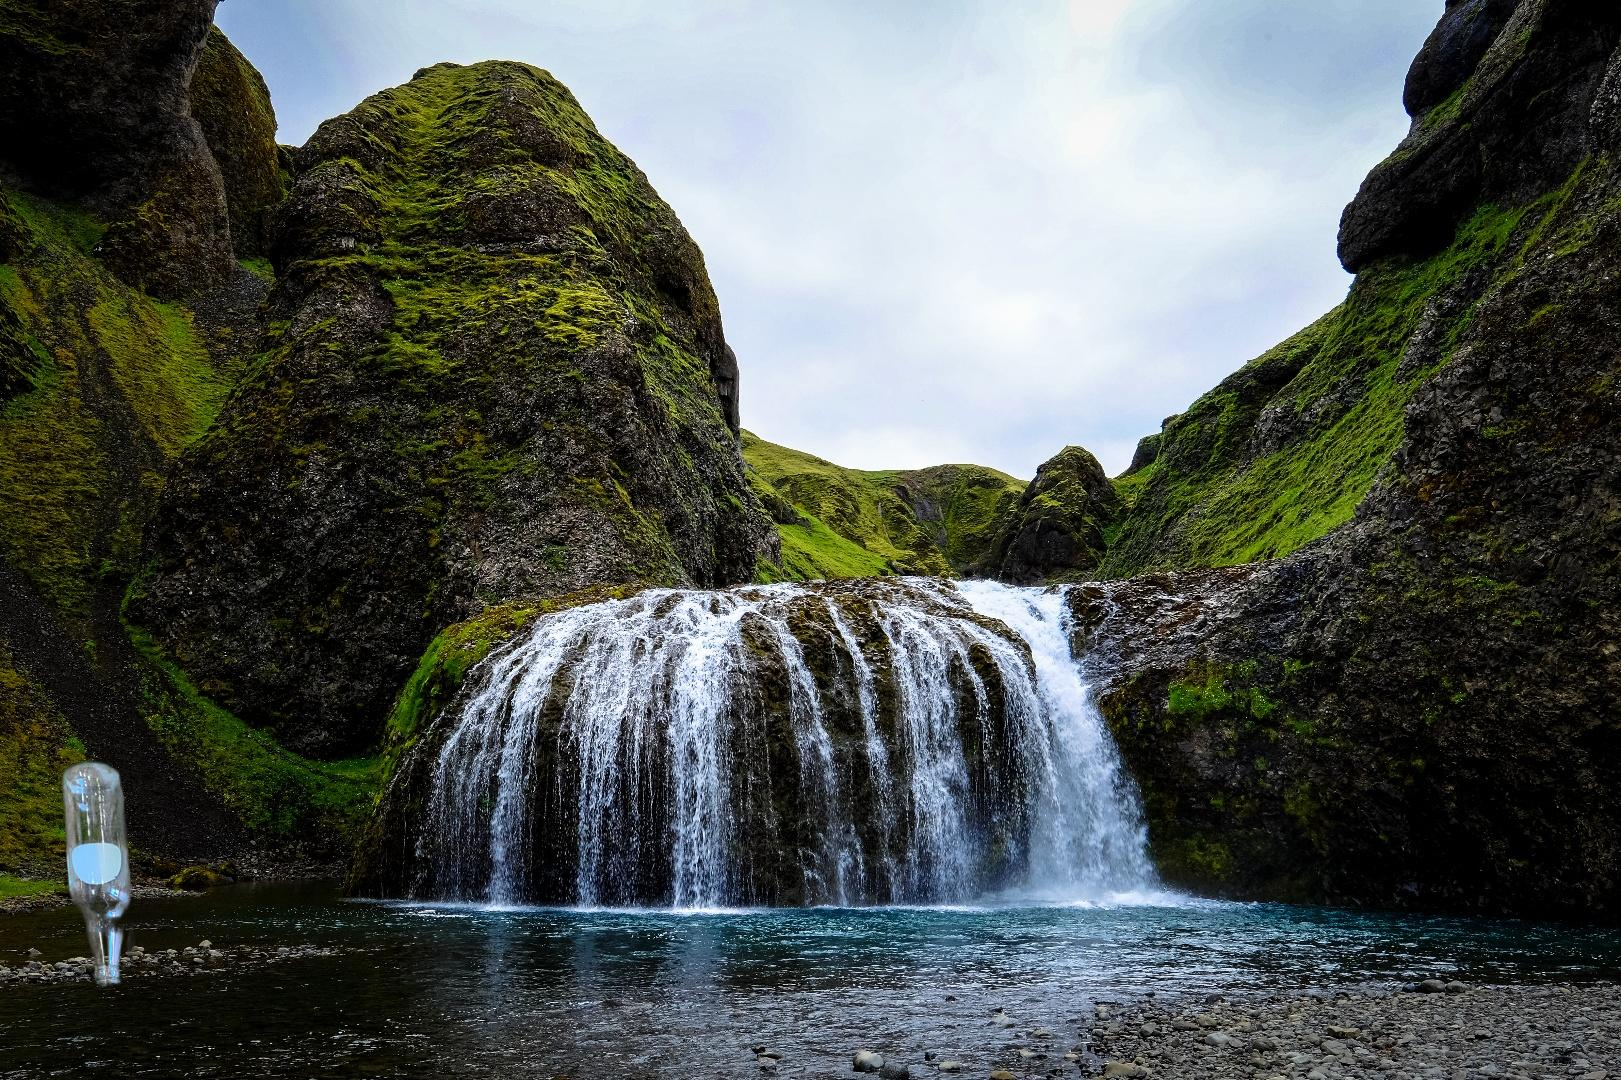glass: (57, 673, 470, 992)
